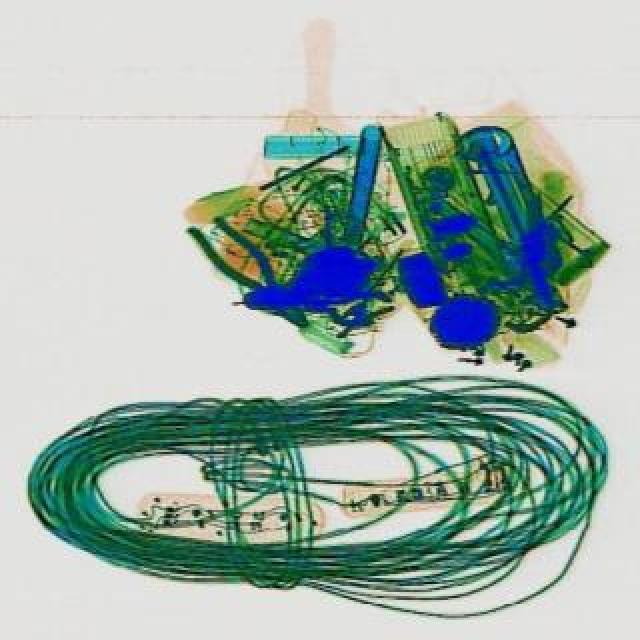wrench: (180, 204, 320, 340)
